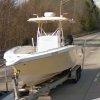Boat: (1, 10, 87, 99)
